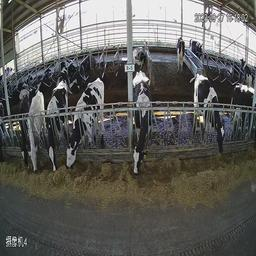cow: (66, 79, 106, 168), (130, 68, 153, 182), (189, 69, 223, 146), (45, 81, 68, 169), (26, 90, 45, 169), (17, 93, 31, 163), (55, 64, 77, 90), (69, 65, 86, 94), (175, 34, 185, 75), (189, 37, 203, 64), (20, 76, 36, 98), (131, 46, 145, 67)
